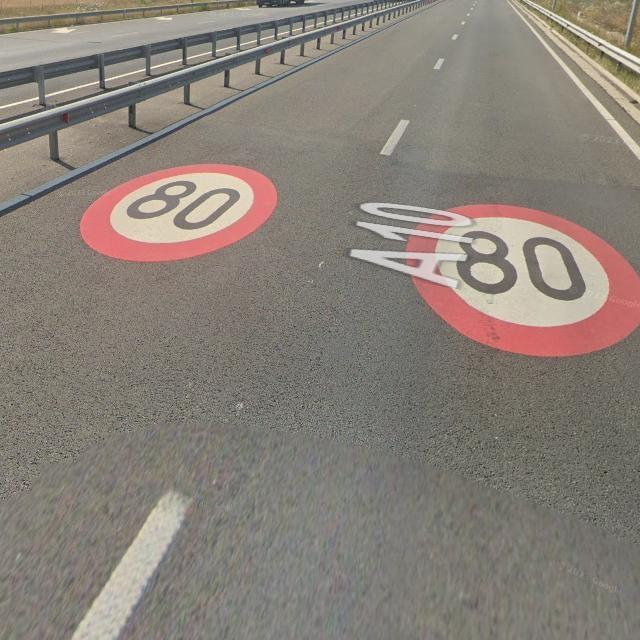forb_speed_over_80: (406, 202, 639, 360), (78, 162, 280, 264)
